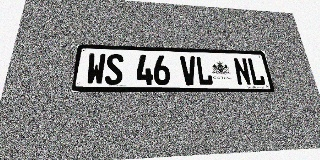4: (136, 55, 153, 85)
6: (153, 55, 170, 85)
L: (195, 56, 214, 85), (247, 58, 266, 86)
N: (233, 58, 252, 86)
S: (105, 54, 123, 85)
V: (180, 56, 198, 85)
W: (85, 53, 106, 85)
